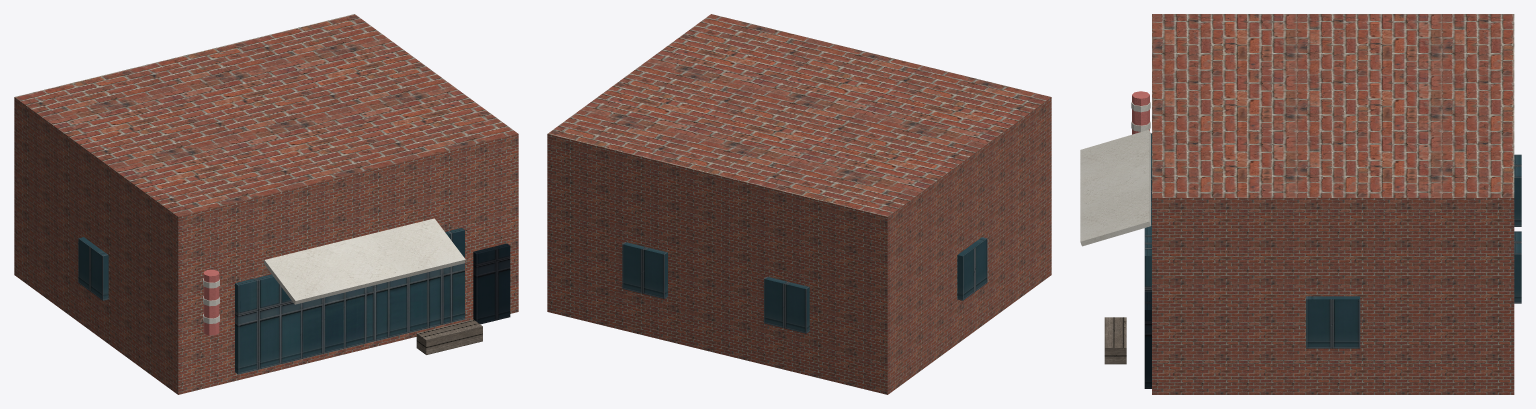
The model's file is barber-shop_lod0.gltf.
The picture shows the model from 3 angles, left to right: view 1: azimuth 30°, elevation 25°; view 2: azimuth 150°, elevation 25°; view 3: azimuth 270°, elevation 25°; orthographic projection. The views are drawn at different scales.
Visible parts, largest first — view 1: barber-shop_main, barber-shop_fen_07-glass-curtain-blue_0, barber-shop__awning, barber-shop_fen_07-glass-curtain-blue_1_t, barber-shop__bench, barber-shop__barber_pole; view 2: barber-shop_main, barber-shop_fen_07-glass-curtain-blue_0; view 3: barber-shop_main, barber-shop__awning, barber-shop_fen_07-glass-curtain-blue_0, barber-shop__bench, barber-shop_fen_07-glass-curtain-blue_1_t, barber-shop__barber_pole.
Part boxes in pixels (left/top/right/bottom): barber-shop_main: left=14, top=14, right=518, bottom=394; barber-shop_fen_07-glass-curtain-blue_0: left=78, top=228, right=464, bottom=374; barber-shop__awning: left=263, top=218, right=465, bottom=304; barber-shop_fen_07-glass-curtain-blue_1_t: left=473, top=243, right=510, bottom=324; barber-shop__bench: left=416, top=319, right=482, bottom=354; barber-shop__barber_pole: left=203, top=269, right=219, bottom=335; barber-shop_main: left=547, top=14, right=1051, bottom=394; barber-shop_fen_07-glass-curtain-blue_0: left=622, top=237, right=987, bottom=333; barber-shop_main: left=1152, top=14, right=1514, bottom=394; barber-shop__awning: left=1080, top=130, right=1150, bottom=246; barber-shop_fen_07-glass-curtain-blue_0: left=1144, top=133, right=1521, bottom=348; barber-shop__bench: left=1104, top=317, right=1126, bottom=364; barber-shop_fen_07-glass-curtain-blue_1_t: left=1144, top=291, right=1151, bottom=388; barber-shop__barber_pole: left=1132, top=91, right=1149, bottom=134.
Bounding box in the file's own units: 12.4 × 6 × 12.17.
